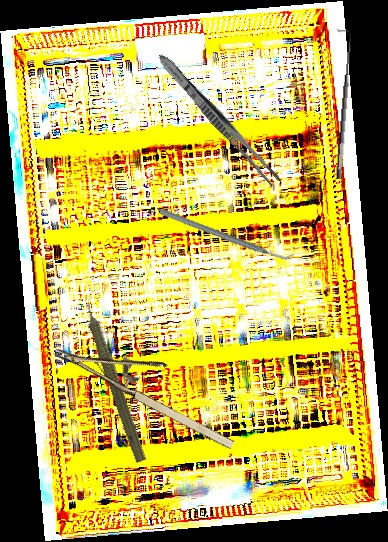Chopper: (158, 165, 296, 303)
Dressing Forceps: (153, 50, 285, 190)
Handpiece: (75, 288, 153, 465)
Hook Surgical: (324, 27, 357, 180)
Needle Holder: (52, 312, 252, 455)
